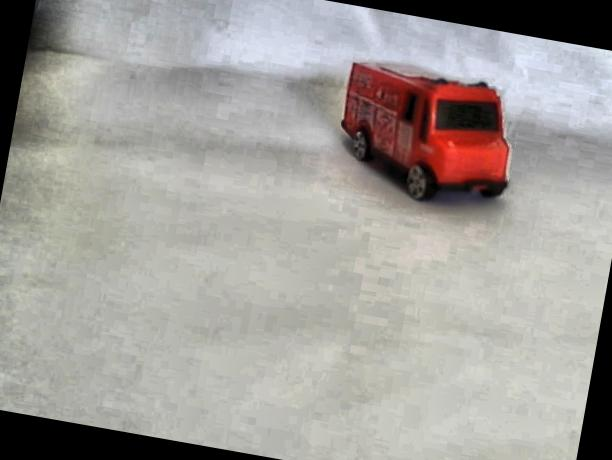fire_truck: (326, 50, 528, 215)
